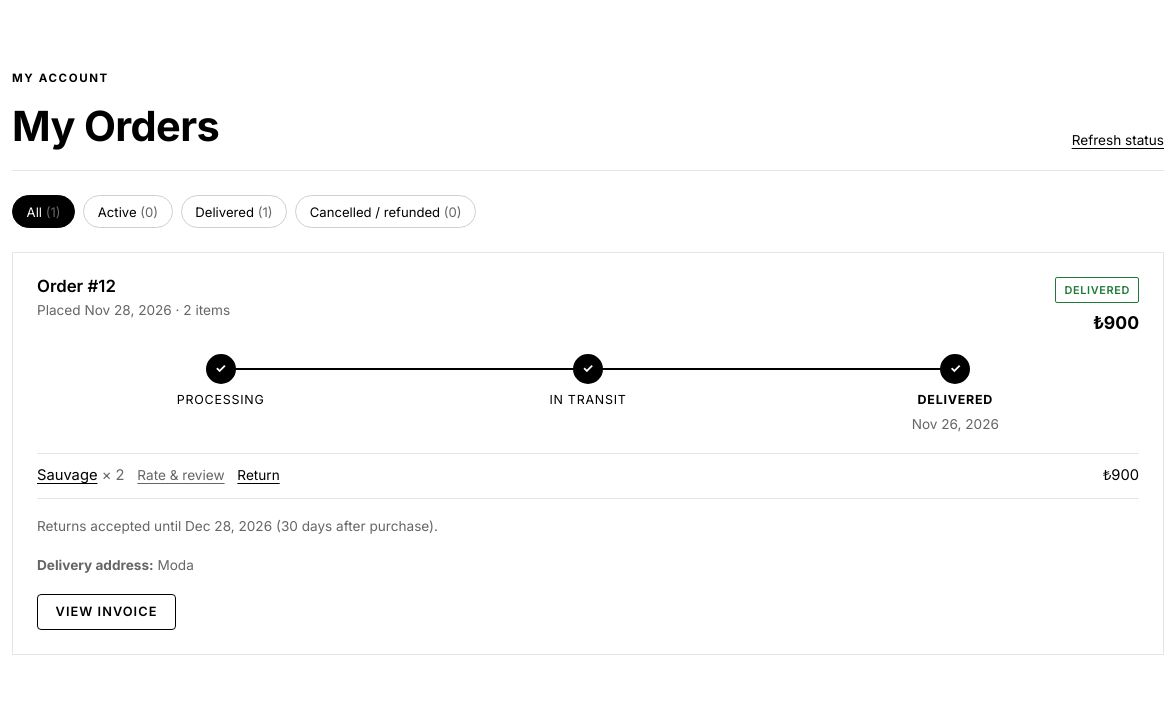
Test: customer return request (My Orders) › asks for an optional reason, shows the amount and sends the request
Click the button "Return".
click(259, 476)  # box [237,466,280,487]
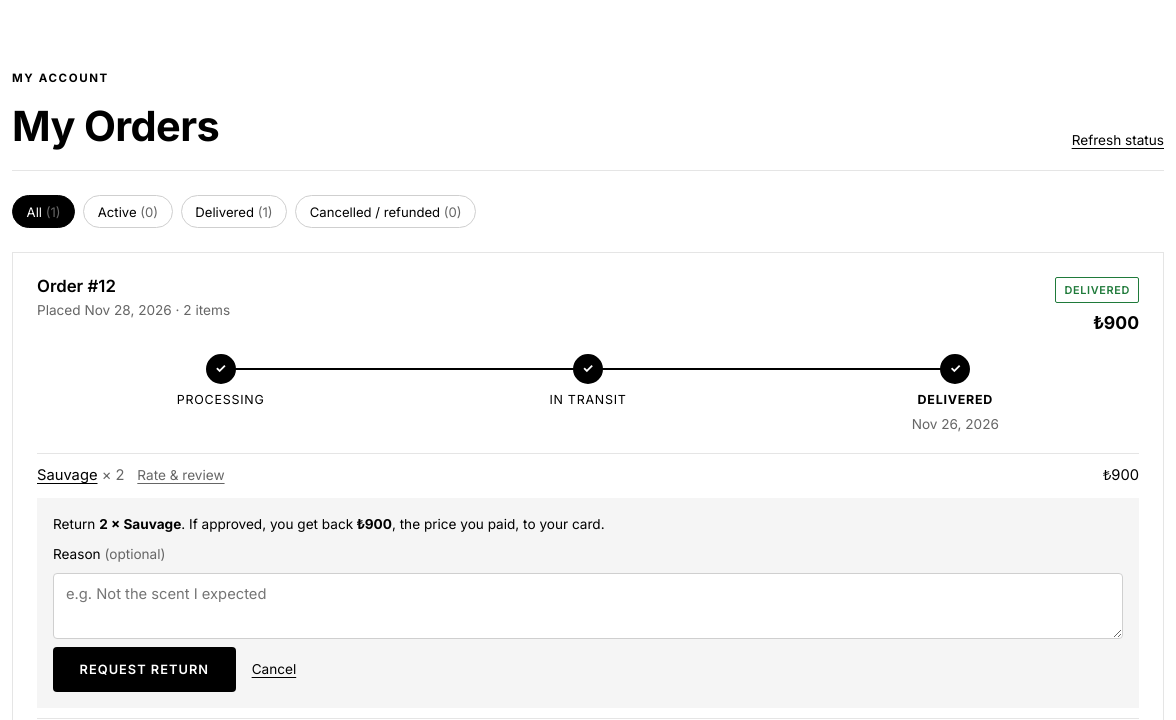
Now the text "the price you paid" is shown, box [392,516,605,532]
Type "  Too sweet " into the text box labelled "Reason (optional)".
click(588, 606); type("  Too sweet ")  # box [53,573,1123,639]
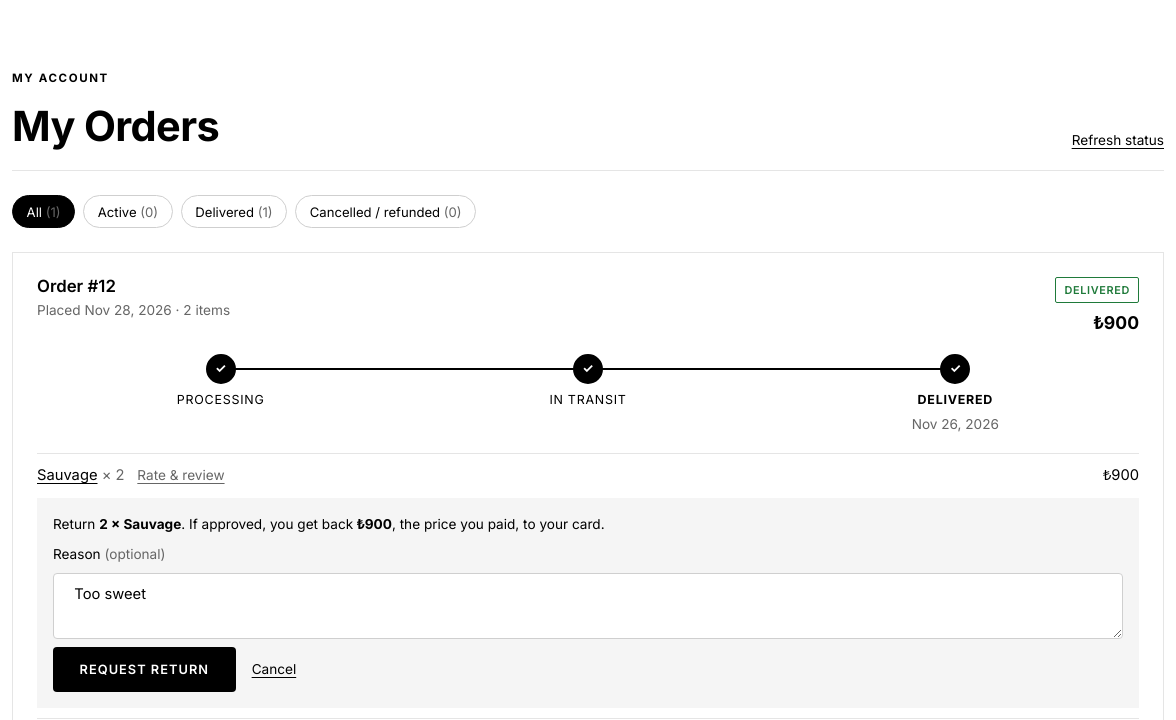
Click the button "Request return".
click(144, 670)  # box [53,647,236,692]
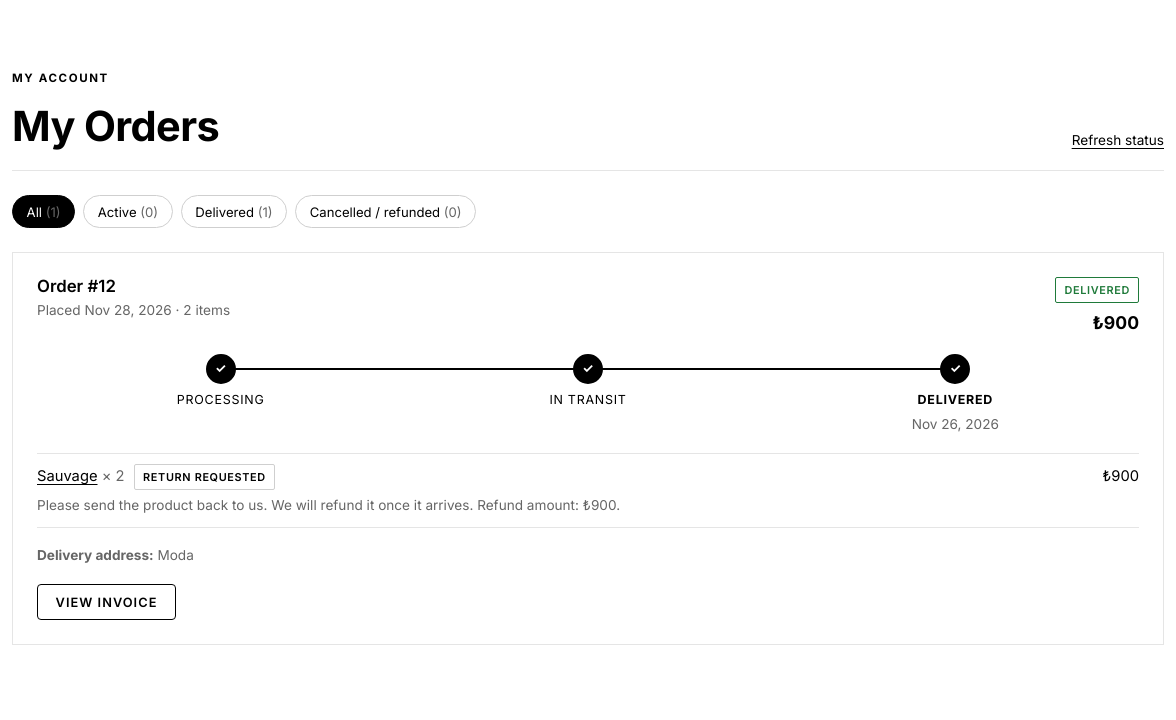
Now the text "Return requested" is shown, box [134,464,275,490]
Now the text "Please send the product back" is shown, box [37,497,473,513]
